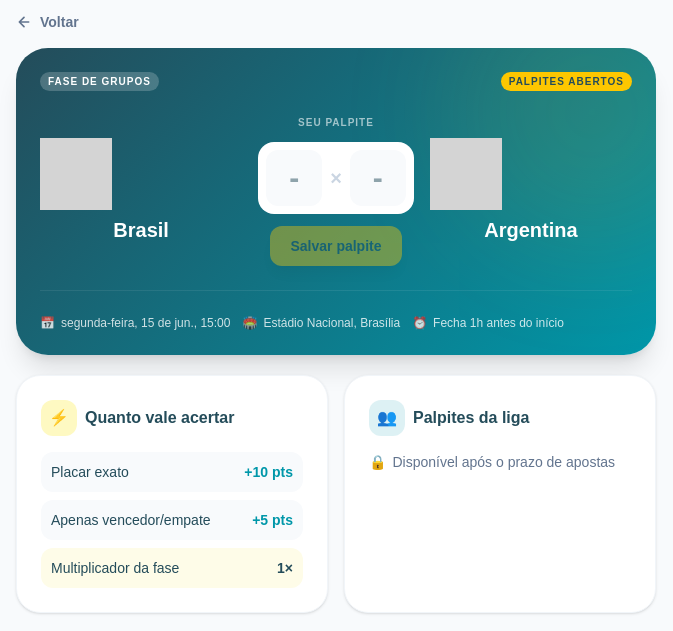
Scenario: BetDetailPage › enables save button after entering "3" home and "0" away from null prediction
Expected: the button with test id "save-btn" is disabled, [270,226,402,266]
Type "3" into the number field with test id "input-home" at (294, 178), box [266,150,322,206]
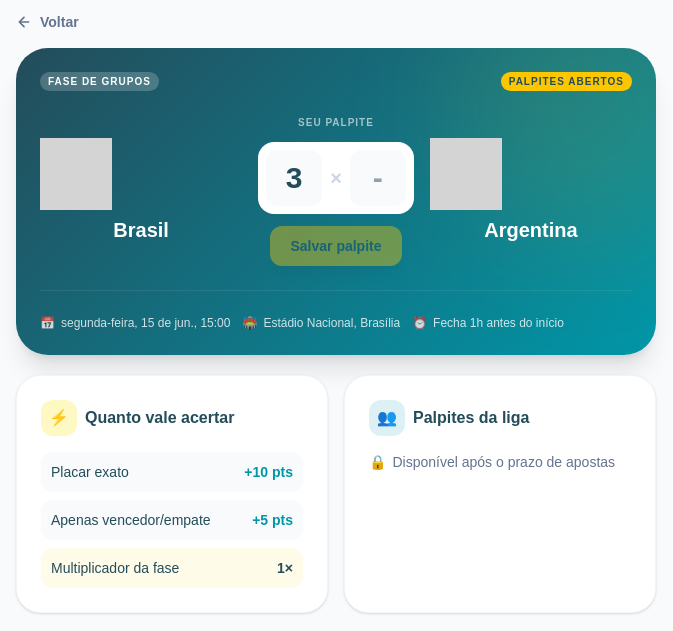
Type "0" into the number field with test id "input-away" at (378, 178), box [350,150,406,206]
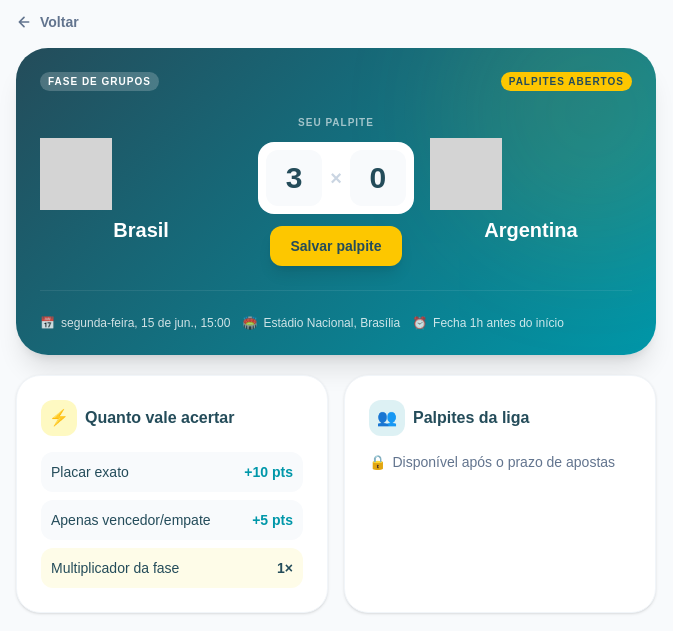
Now the button with test id "save-btn" is enabled, box [270,226,402,266]
